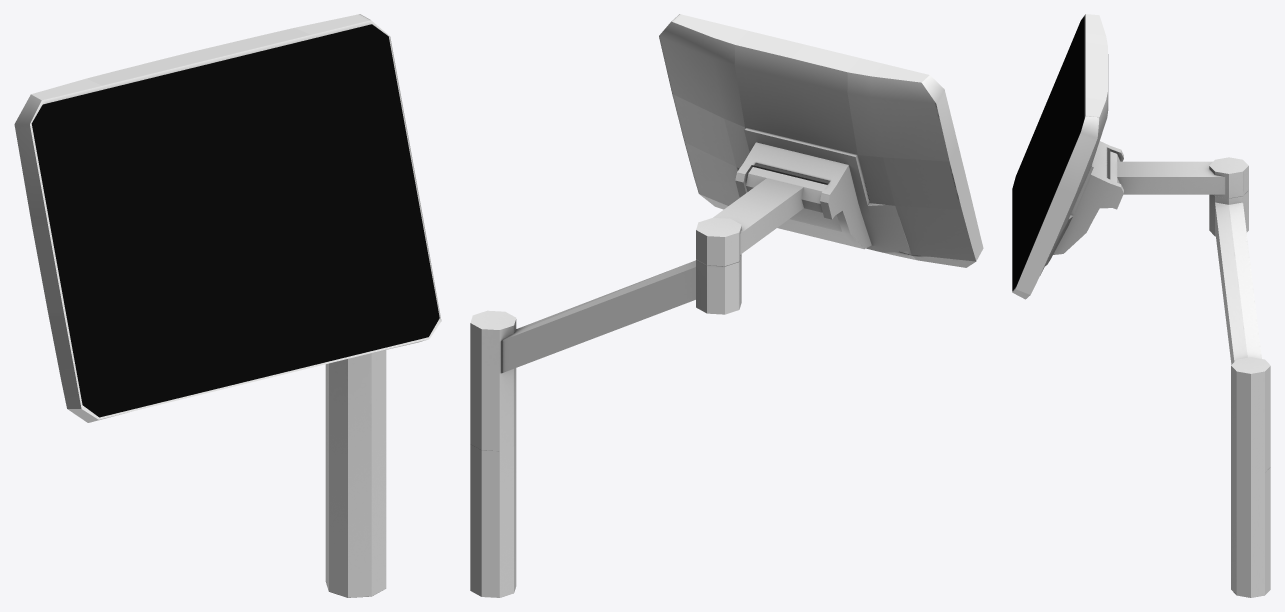
The model's file is UPOS_211_arm.fbx.
3 renders of one model, left to right at view 1: azimuth 30°, elevation 25°; view 2: azimuth 150°, elevation 25°; view 3: azimuth 270°, elevation 25°, orthographic. The views are drawn at different scales.
Visible parts, largest first — view 1: A, C, B, F, G; view 2: B, G, D, F, E; view 3: G, A, B, F, E, D, C.
Part boxes in pixels (x1=…): A: x1=45, y1=40, x2=425, y2=401; C: x1=31, y1=24, x2=439, y2=417; B: x1=14, y1=14, x2=441, y2=422; F: x1=325, y1=389, x2=386, y2=597; G: x1=325, y1=350, x2=386, y2=404; B: x1=659, y1=14, x2=983, y2=267; G: x1=470, y1=255, x2=741, y2=451; D: x1=735, y1=127, x2=910, y2=252; F: x1=470, y1=440, x2=516, y2=597; E: x1=696, y1=167, x2=826, y2=266; G: x1=1209, y1=190, x2=1270, y2=474; A: x1=1016, y1=26, x2=1080, y2=281; B: x1=1012, y1=14, x2=1108, y2=299; F: x1=1231, y1=467, x2=1270, y2=597; E: x1=1110, y1=151, x2=1248, y2=198; D: x1=1045, y1=141, x2=1123, y2=266; C: x1=1012, y1=16, x2=1084, y2=290.
Bounding box in the file's own units: 46.65 × 62.72 × 33.59.
